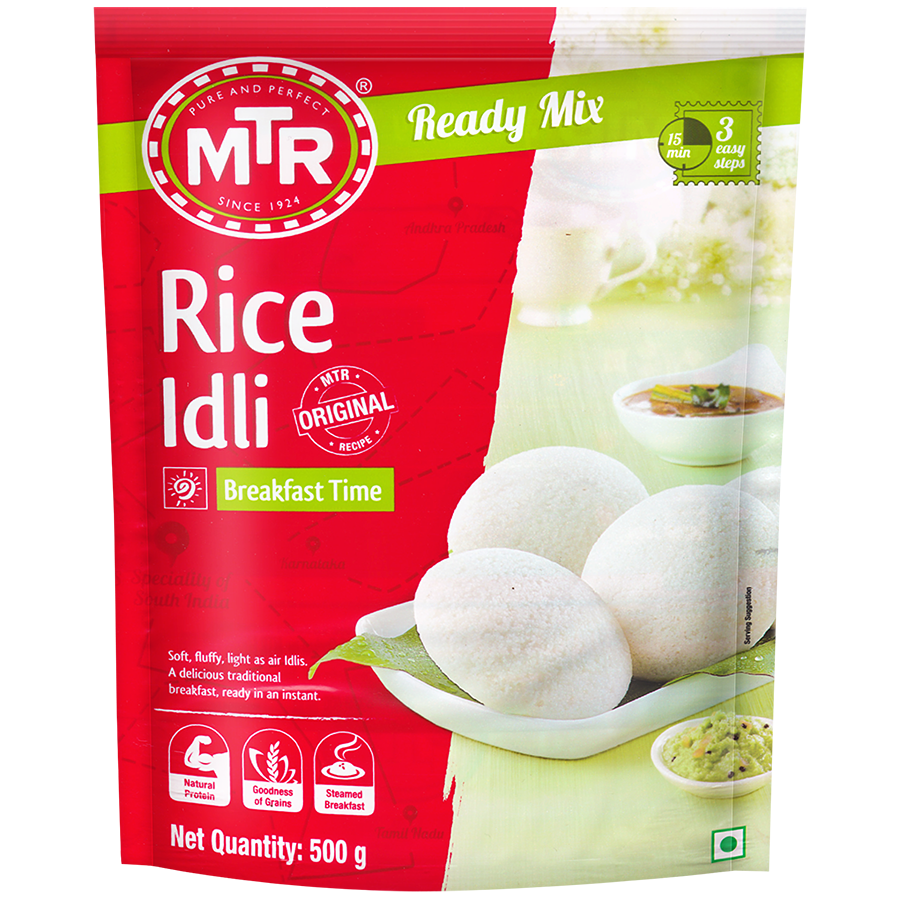chutney: (663, 716, 771, 779)
idli: (417, 545, 630, 723), (579, 481, 773, 667), (444, 451, 663, 597)
